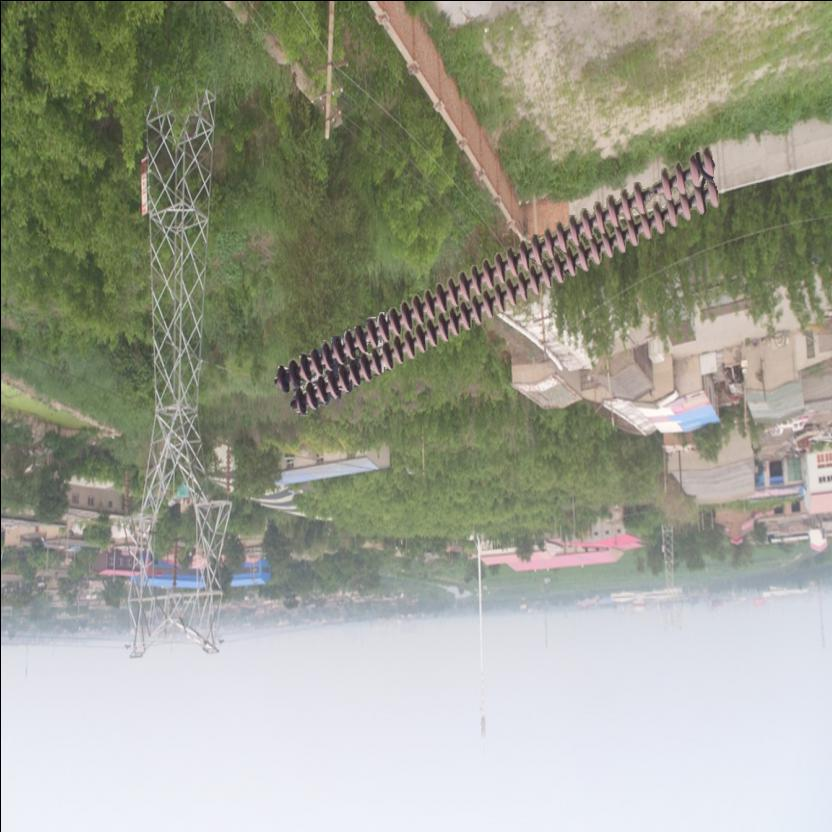defect: (632, 164, 678, 214)
